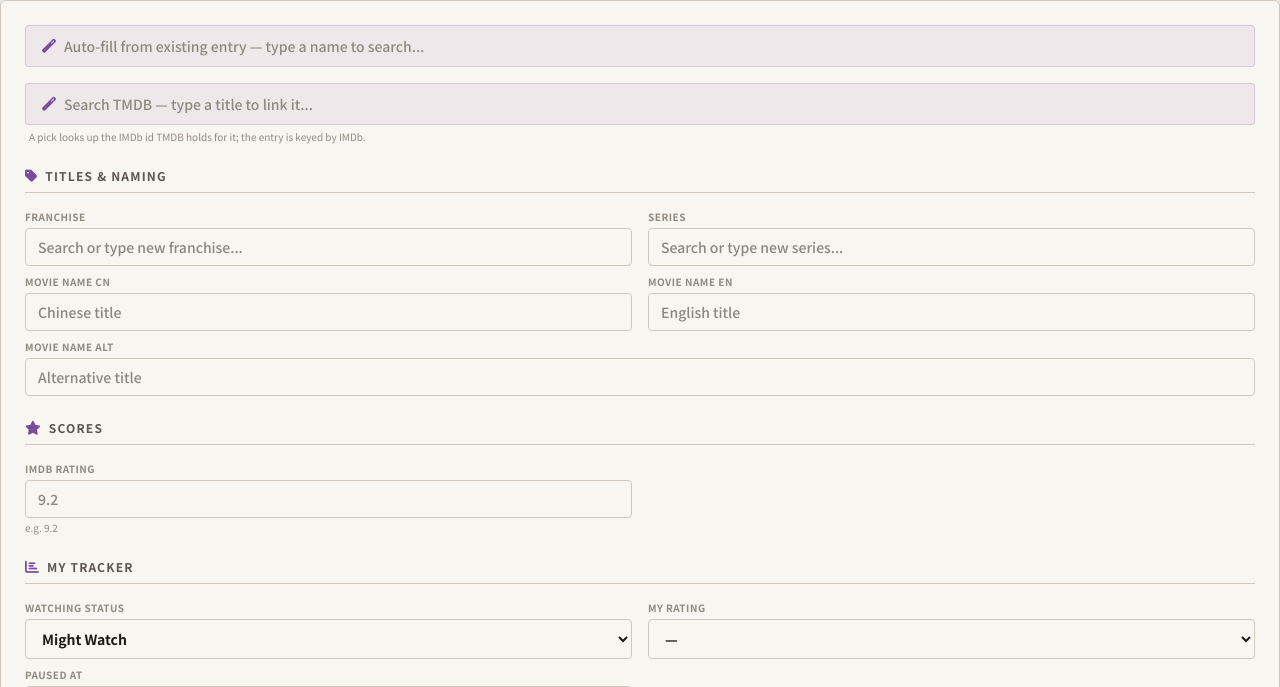
Test: MovieAddTab › offers movie and untyped franchises only
The image size is (1280, 687).
Step 1. Click the dropdown labelled "franchise" → {"x": 328, "y": 247}, box [25,228,632,266]
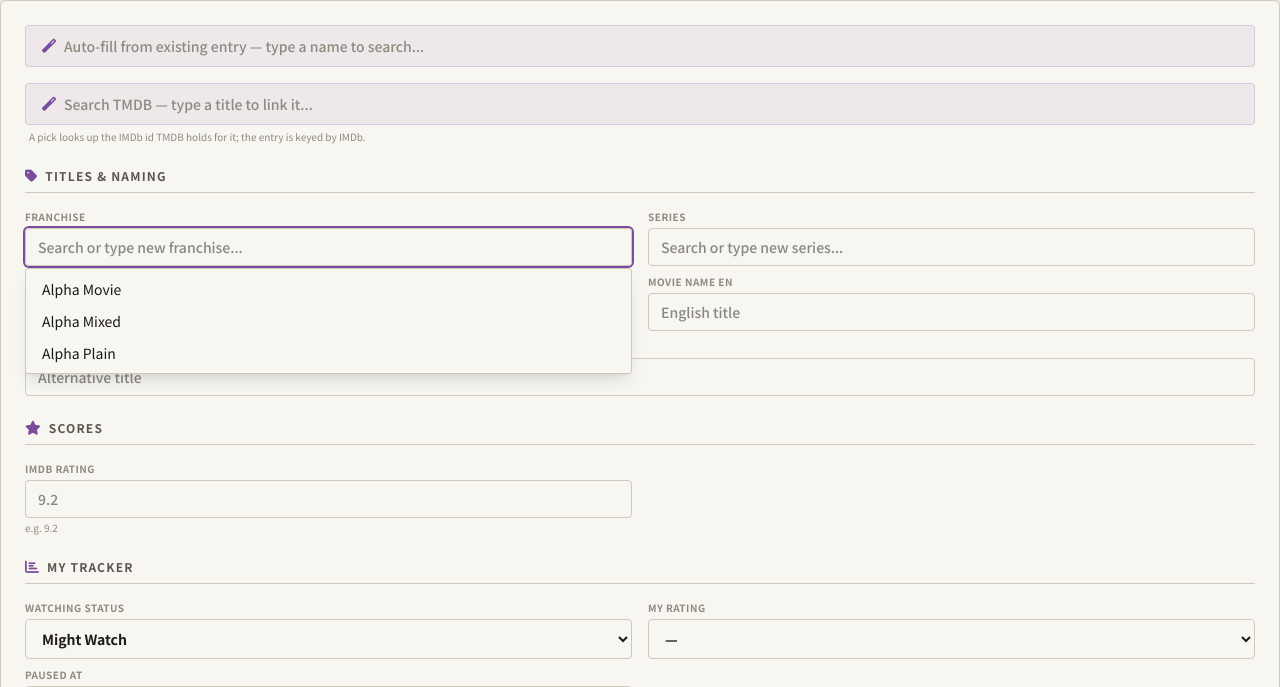
Now the option "Alpha Movie" is shown, box [42,279,121,299]
Now the option "Alpha Mixed" is shown, box [42,311,121,331]
Now the option "Alpha Plain" is shown, box [42,343,116,363]
